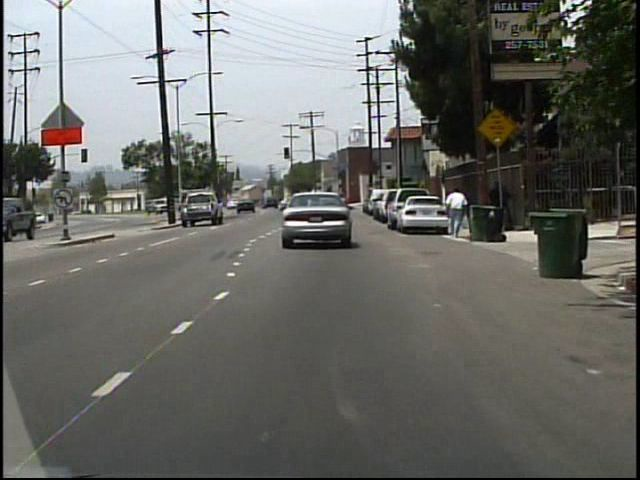person: (443, 186, 468, 240)
